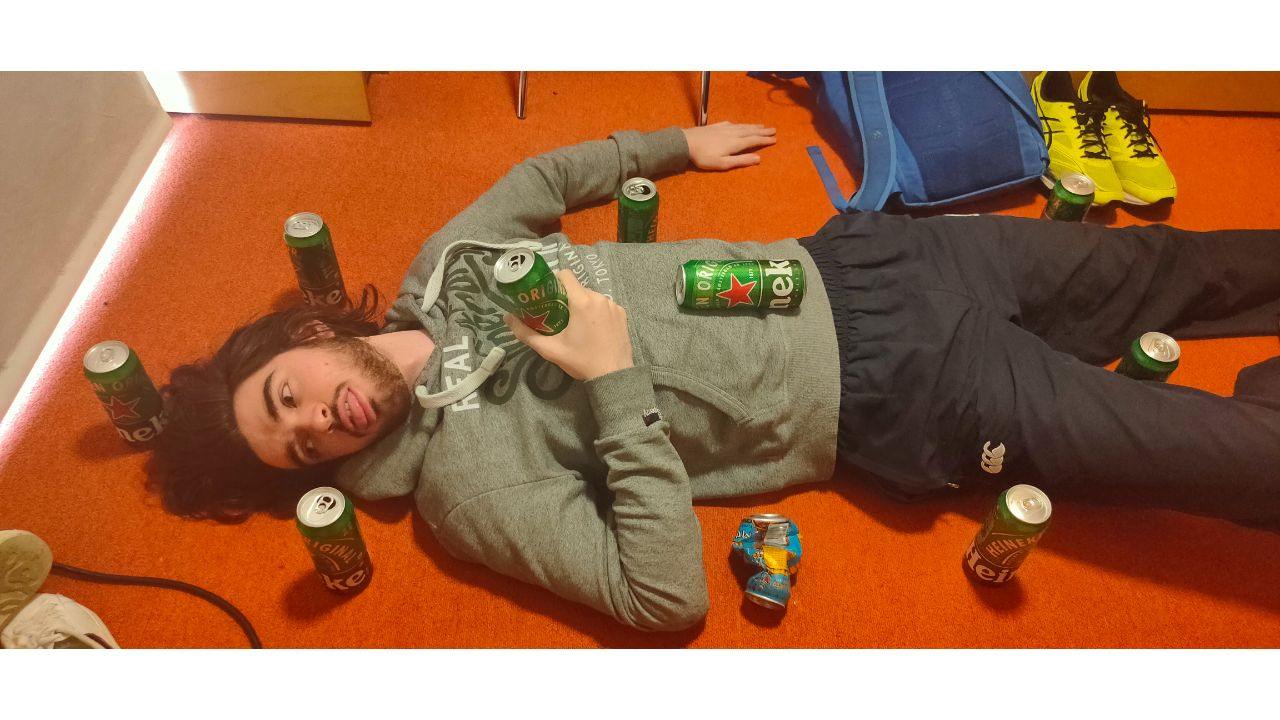Can: (960, 481, 1053, 587), (82, 342, 169, 447), (294, 487, 374, 595), (731, 512, 808, 616), (492, 245, 574, 342), (673, 262, 811, 315), (284, 213, 350, 308), (1116, 328, 1186, 389), (619, 174, 658, 242), (1044, 178, 1095, 229)
